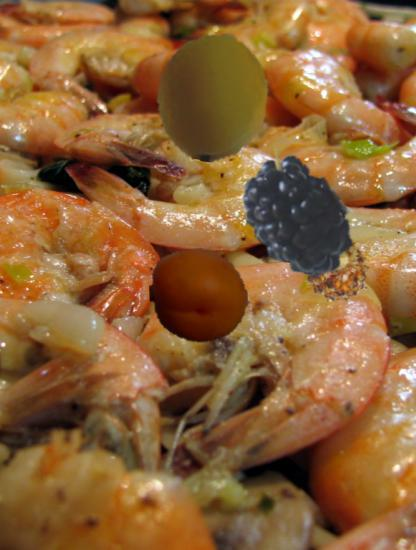Apricot: (150, 247, 248, 345)
Mulberry: (216, 154, 360, 298)
Peach: (147, 32, 278, 163)
Pineapple: (299, 235, 371, 307)
